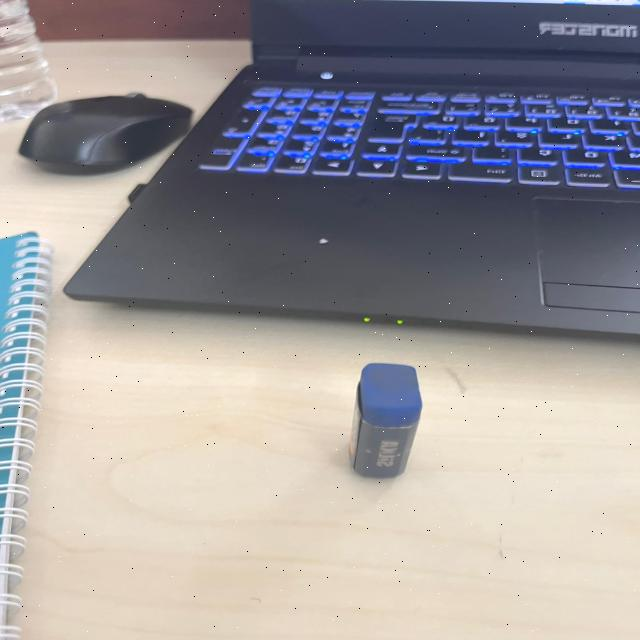eraser: (330, 356, 439, 489)
